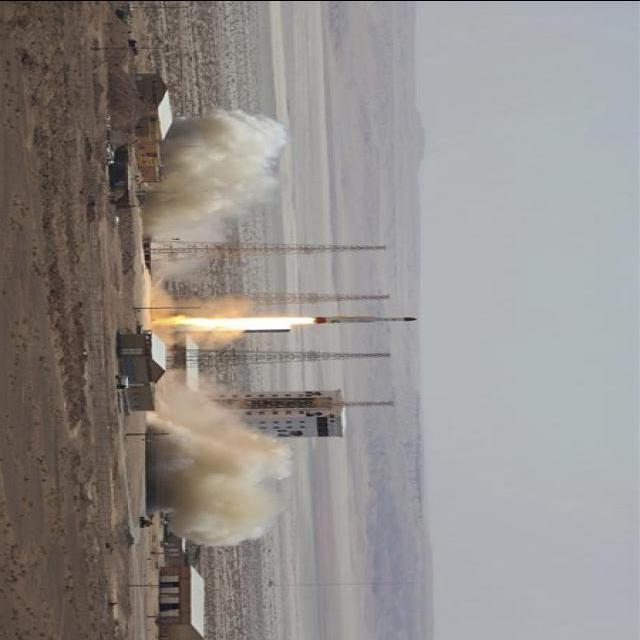missile: (314, 310, 418, 338)
